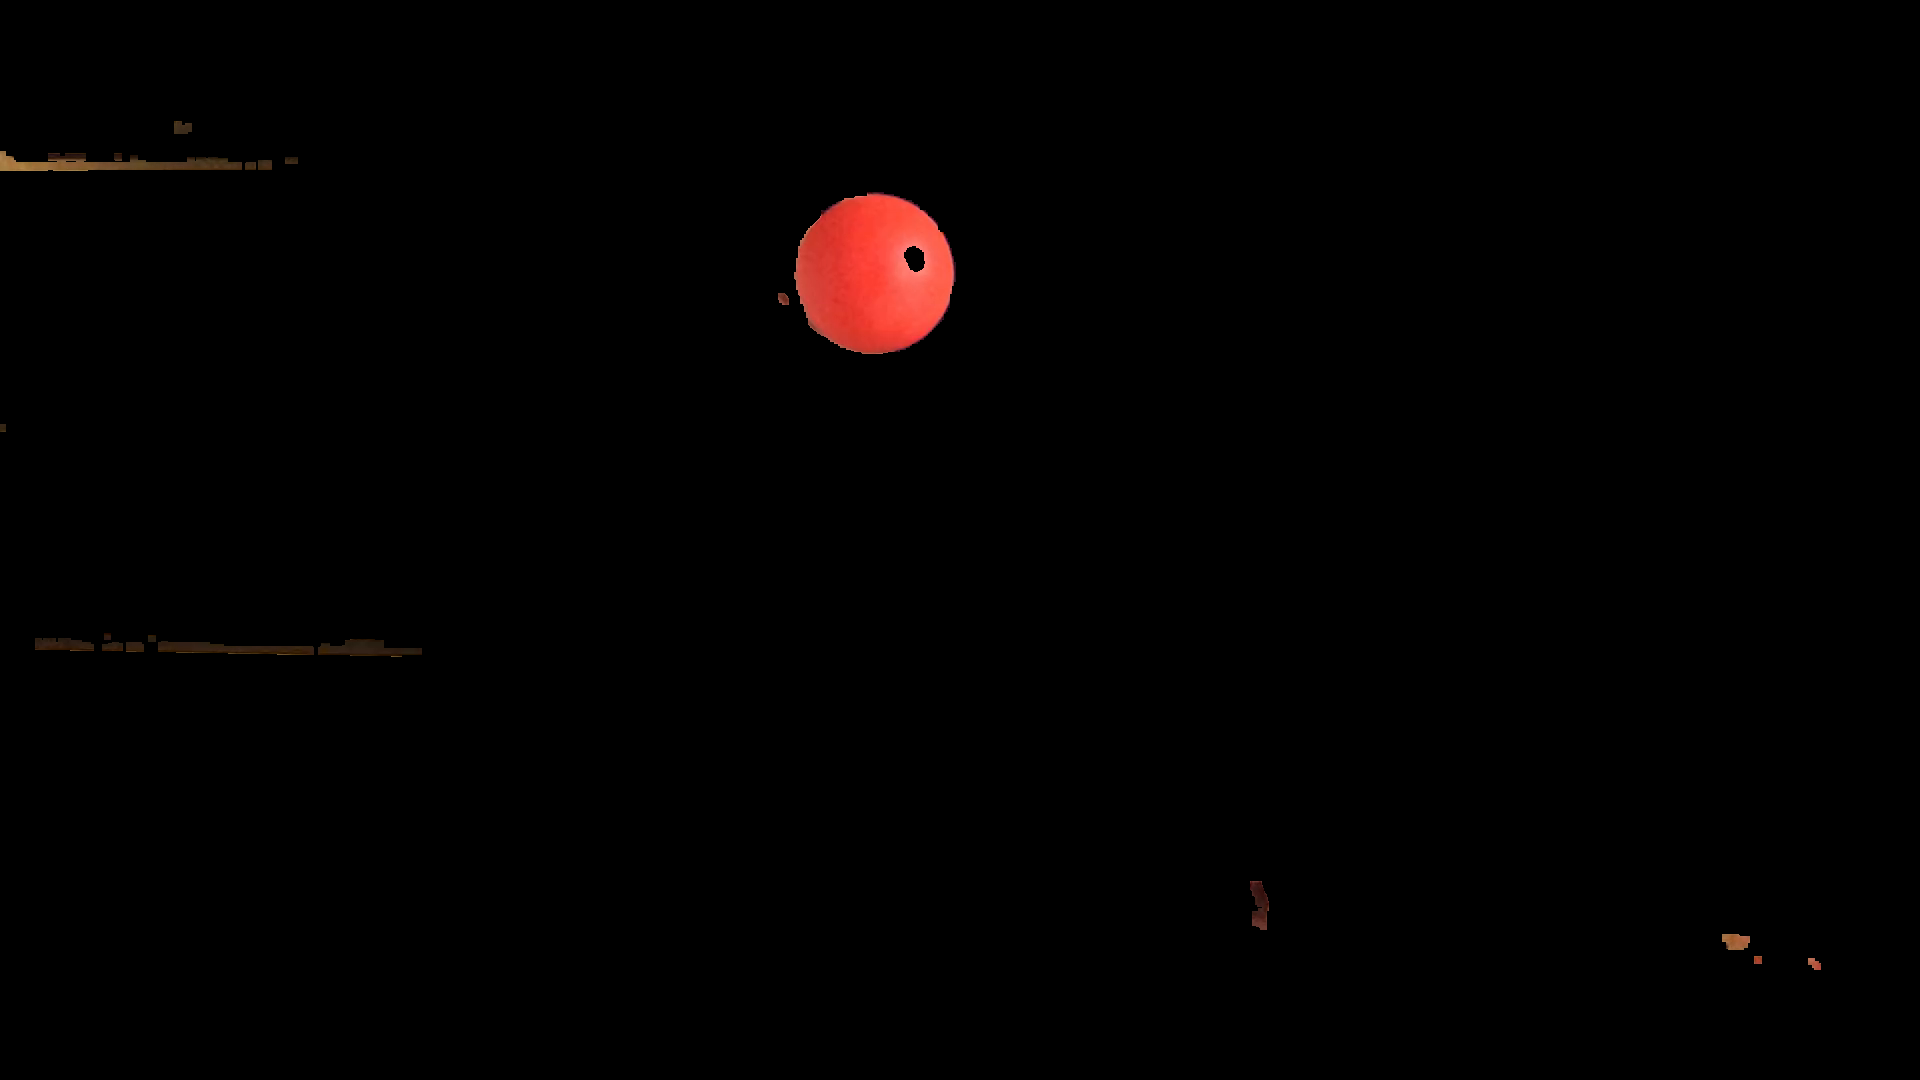Ball: (794, 189, 953, 361)
